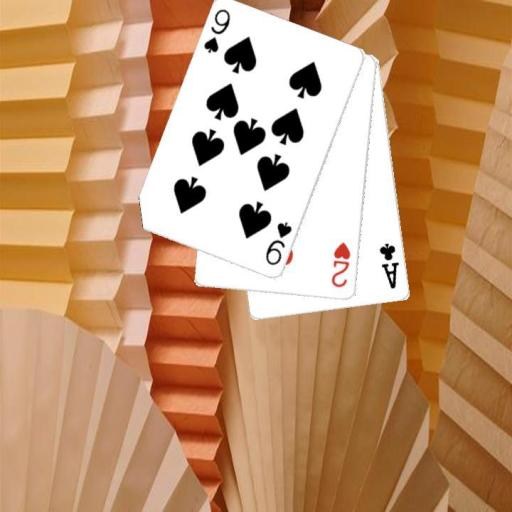2H: (329, 239, 353, 289)
9S: (200, 6, 232, 55), (262, 219, 294, 267)
AC: (376, 240, 401, 290)
